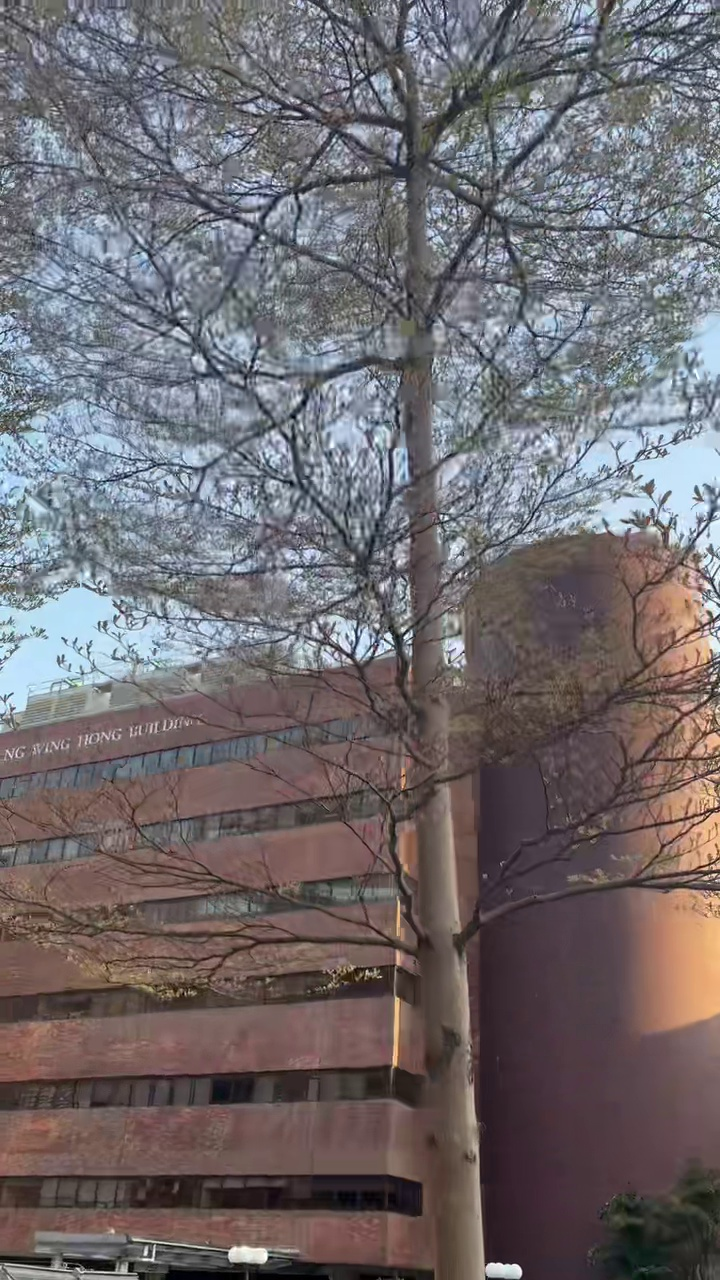Terminalia mantaly: (0, 0, 719, 1247)
